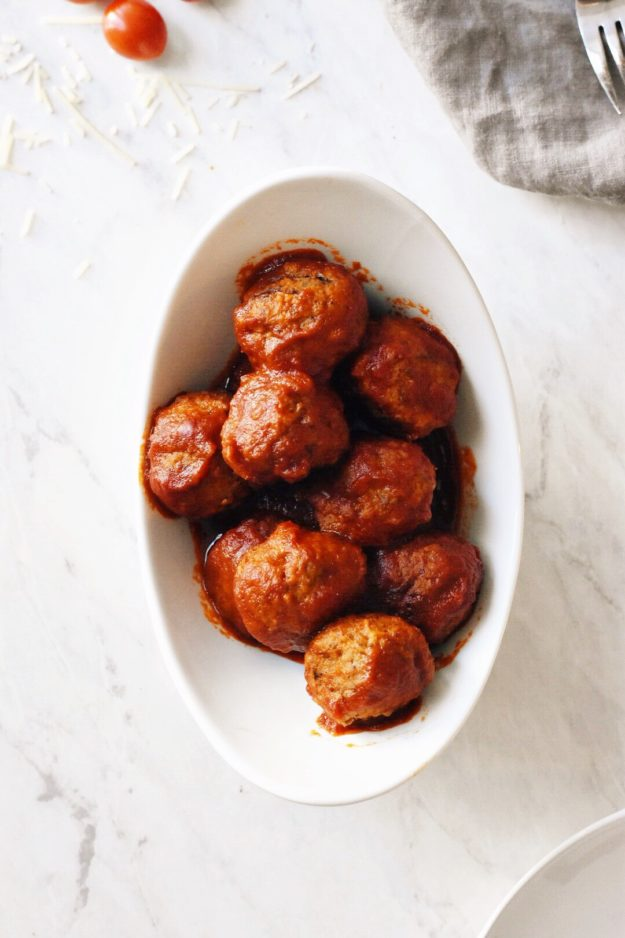meatballs: (152, 252, 485, 745), (207, 520, 352, 651), (236, 254, 376, 378), (221, 364, 356, 480), (320, 436, 453, 546), (356, 316, 479, 432), (305, 616, 426, 725), (144, 385, 243, 511), (372, 533, 489, 636)
